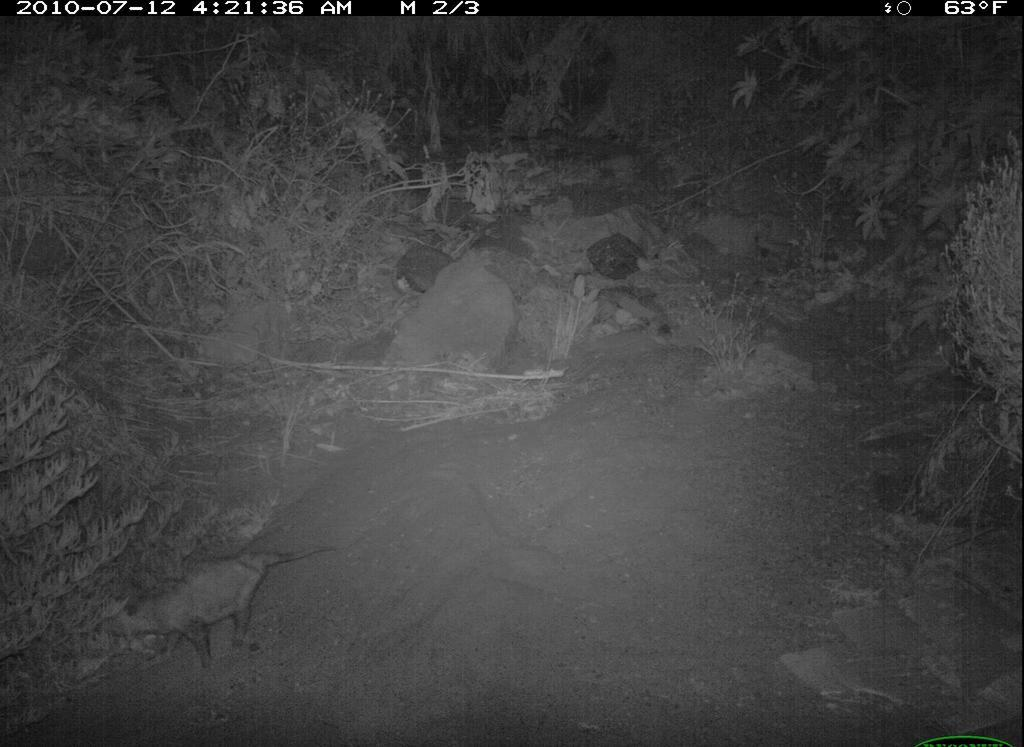opossum: (94, 537, 346, 677)
